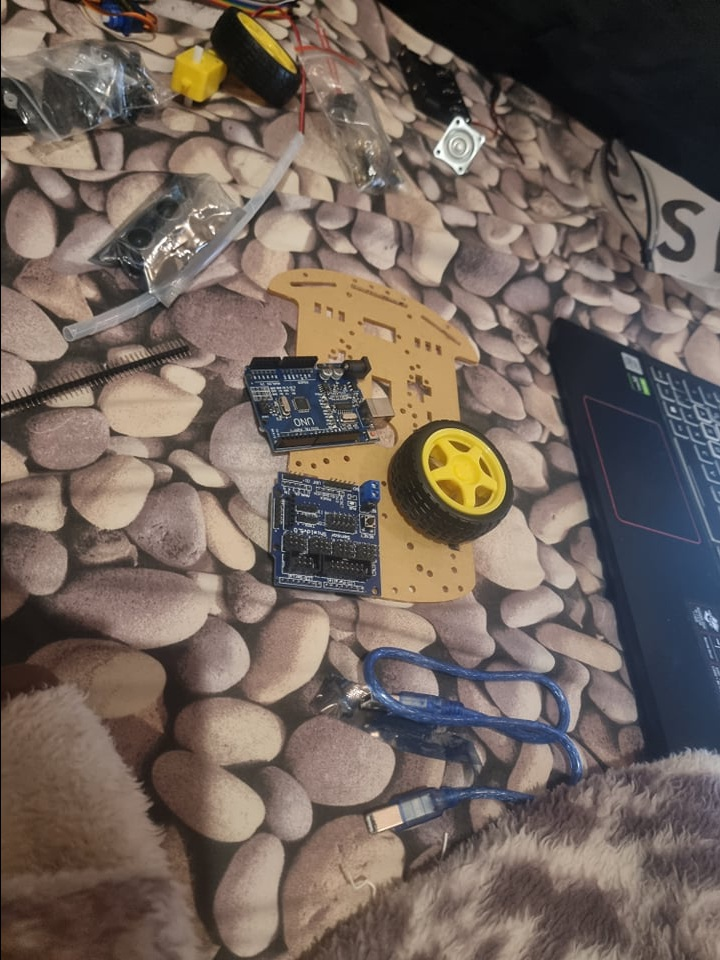5V EXPANSION: (268, 473, 382, 599)
BATTERY BOX: (401, 39, 469, 125)
SENSOR: (111, 195, 188, 264)
UNO R3: (251, 353, 391, 455)
